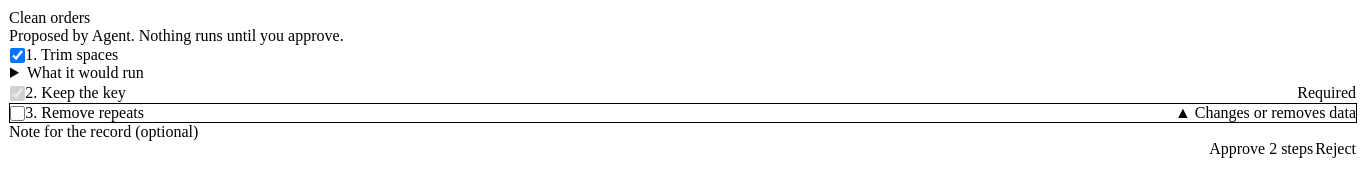
Test: PlanReview › leaves high-risk steps unticked and reports only what was approved
Expected: the checkbox labelled "3. Remove repeats" is not checked, [10,106,25,121]
Expected: the checkbox labelled "2. Keep the key" is disabled, [10,86,25,101]
Click the button "Approve 2 steps" at (1261, 149), box [1208,139,1314,159]
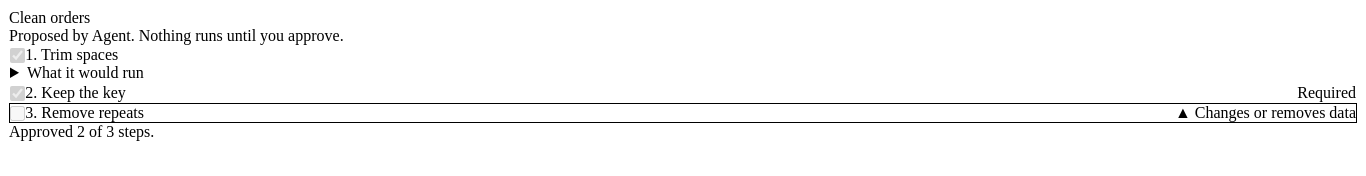
Now the message reads "Approved 2 of 3 steps.", box [9,123,154,140]
